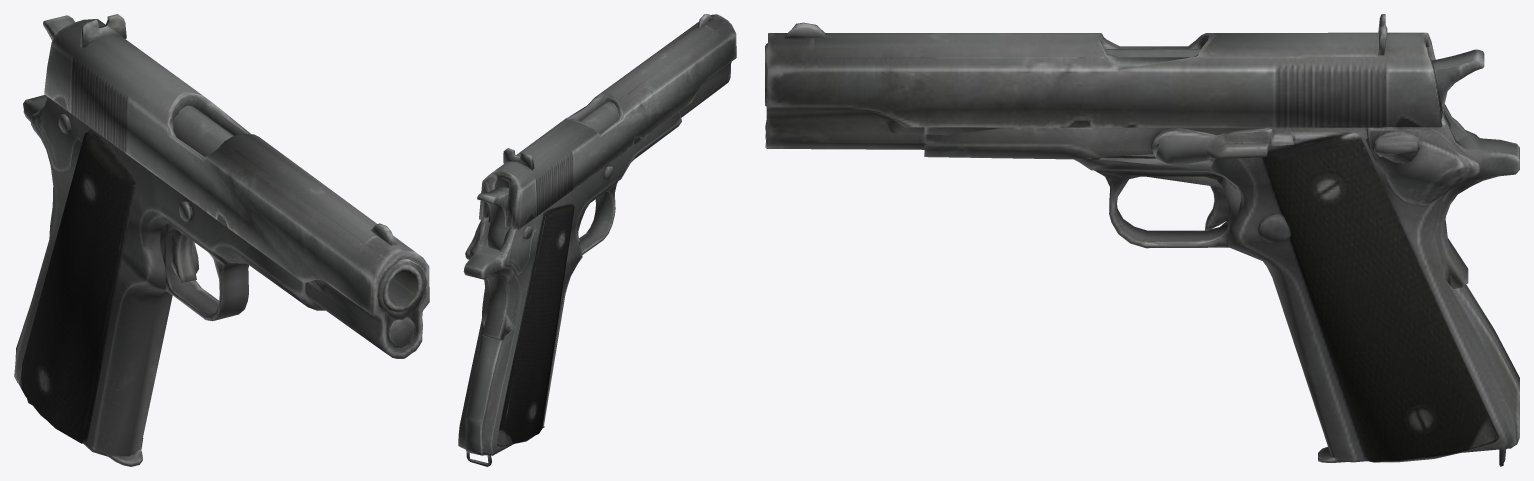
The picture shows the model from 3 angles, left to right: view 1: azimuth 30°, elevation 25°; view 2: azimuth 150°, elevation 25°; view 3: azimuth 270°, elevation 25°; orthographic projection. The views are drawn at different scales.
Visible parts, largest first — view 1: m1911a1; view 2: m1911a1; view 3: m1911a1.
Boxes of the visible parts, <box> form: m1911a1: <box>14,14,429,466</box>; m1911a1: <box>458,14,736,466</box>; m1911a1: <box>765,14,1519,466</box>.
Size of the model in its own units: 2.84 by 13.88 by 21.6.
1 material, 1 textured.
